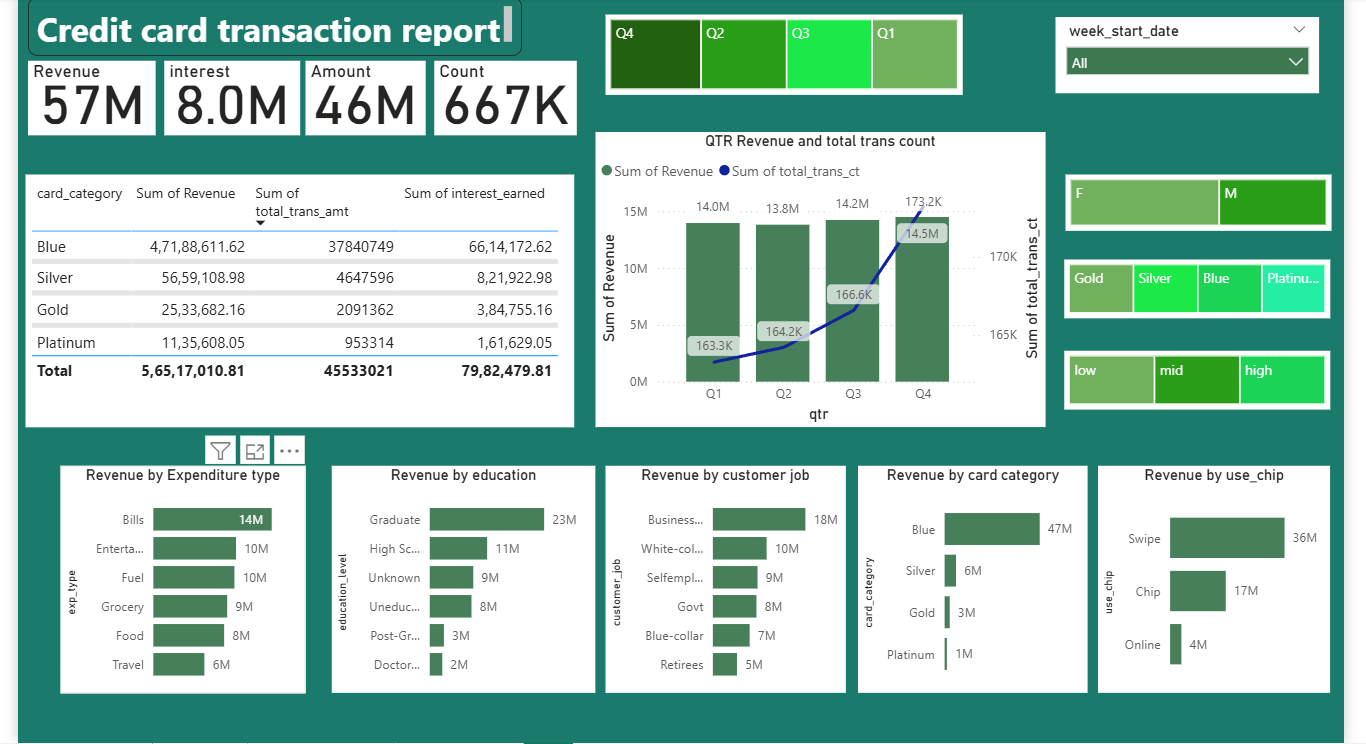

The page's visual inventory and layout, read from the dashboard file:
{"tool":"powerbi","page":{"name":"cc transaction","canvas":[1280,720],"ordinal":1},"visuals":[{"type":"textbox","box":[9.7,0,476.5,56.7],"z":0},{"type":"lineStackedColumnComboChart","title":"QTR Revenue and total trans count","fields":{"Category":["public cc_detail.qtr"],"Y":["Sum(public cc_detail.Revenue)"],"Y2":["Sum(public cc_detail.total_trans_ct)"]},"box":[557.4,130.3,434.3,284.7],"z":1000},{"type":"barChart","title":"Revenue by Expenditure type","fields":{"Category":["public cc_detail.exp_type"],"Y":["Sum(public cc_detail.Revenue)"]},"box":[41,452.4,236.5,219.6],"z":2000},{"type":"barChart","title":"Revenue by education","fields":{"Category":["public cust_detail.education_level","public cc_detail.exp_type"],"Y":["Sum(public cc_detail.Revenue)"]},"box":[302.8,452.4,254.6,219.6],"z":3000},{"type":"barChart","title":"Revenue by customer job","fields":{"Y":["Sum(public cc_detail.Revenue)"],"Category":["public cust_detail.customer_job"]},"box":[567,452.4,231.6,219.6],"z":4000},{"type":"barChart","title":"Revenue by card category","fields":{"Y":["Sum(public cc_detail.Revenue)"],"Category":["public cc_detail.card_category"]},"box":[810.7,452.4,222,219.6],"z":5000},{"type":"barChart","title":"Revenue by use_chip","fields":{"Y":["Sum(public cc_detail.Revenue)"],"Category":["public cc_detail.use_chip"]},"box":[1042.4,452.4,224.4,219.6],"z":6000},{"type":"tableEx","fields":{"Values":["public cc_detail.card_category","Sum(public cc_detail.Revenue)","Sum(public cc_detail.total_trans_amt)","Sum(public cc_detail.interest_earned)"]},"box":[7.2,171.3,529.6,243.7],"z":7000},{"type":"card","title":"Revenue","fields":{"Values":["Sum(public cc_detail.Revenue)"]},"box":[9.7,61.5,123.1,72.4],"z":8000},{"type":"card","title":"Amount","fields":{"Values":["Sum(public cc_detail.total_trans_amt)"]},"box":[277.5,61.5,115.8,72.4],"z":9000},{"type":"card","title":"Count","fields":{"Values":["Sum(public cc_detail.total_trans_ct)"]},"box":[401.7,61.5,137.5,72.4],"z":10000},{"type":"card","title":"interest","fields":{"Values":["Sum(public cc_detail.interest_earned)"]},"box":[141.2,61.5,131.5,72.4],"z":11000},{"type":"slicer","fields":{"Values":["public cc_detail.week_start_date"]},"box":[1001.3,19.3,254.6,73.6],"z":12000},{"type":"treemap","fields":{"Group":["public cc_detail.qtr"],"Values":["CountNonNull(public cc_detail.client_num)"]},"box":[567,16.9,345,77.2],"z":13000},{"type":"treemap","fields":{"Group":["public cust_detail.gender"],"Values":["CountNonNull(public cc_detail.client_num)"]},"box":[1011,171.3,257,54.3],"z":14000},{"type":"treemap","fields":{"Values":["Avg(public cc_detail.client_num)"],"Group":["public cc_detail.card_category"]},"box":[1009.8,253.4,257,56.7],"z":15000},{"type":"treemap","fields":{"Values":["Avg(public cc_detail.client_num)"],"Group":["public cust_detail.IncomeGroup"]},"box":[1009.8,341.4,257,56.7],"z":16000}]}

Visuals, with their boxes in screenshot pixels (x1, y1, x2, y2):
textbox: {"left": 17, "top": 0, "right": 520, "bottom": 46}
"QTR Revenue and total trans count" lineStackedColumnComboChart: {"left": 596, "top": 123, "right": 1054, "bottom": 424}
"Revenue by Expenditure type" barChart: {"left": 50, "top": 463, "right": 300, "bottom": 695}
"Revenue by education" barChart: {"left": 327, "top": 463, "right": 596, "bottom": 695}
"Revenue by customer job" barChart: {"left": 606, "top": 463, "right": 850, "bottom": 695}
"Revenue by card category" barChart: {"left": 863, "top": 463, "right": 1097, "bottom": 695}
"Revenue by use_chip" barChart: {"left": 1108, "top": 463, "right": 1345, "bottom": 695}
tableEx - public cc_detail.card_category x Sum(public cc_detail.Revenue): {"left": 15, "top": 167, "right": 574, "bottom": 424}
"Revenue" card: {"left": 17, "top": 51, "right": 147, "bottom": 127}
"Amount" card: {"left": 300, "top": 51, "right": 422, "bottom": 127}
"Count" card: {"left": 431, "top": 51, "right": 576, "bottom": 127}
"interest" card: {"left": 156, "top": 51, "right": 295, "bottom": 127}
slicer - public cc_detail.week_start_date: {"left": 1064, "top": 6, "right": 1333, "bottom": 84}
treemap - public cc_detail.qtr x CountNonNull(public cc_detail.client_num): {"left": 606, "top": 4, "right": 970, "bottom": 85}
treemap - public cust_detail.gender x CountNonNull(public cc_detail.client_num): {"left": 1074, "top": 167, "right": 1346, "bottom": 224}
treemap - Avg(public cc_detail.client_num) x public cc_detail.card_category: {"left": 1073, "top": 253, "right": 1345, "bottom": 313}
treemap - Avg(public cc_detail.client_num) x public cust_detail.IncomeGroup: {"left": 1073, "top": 346, "right": 1345, "bottom": 406}
